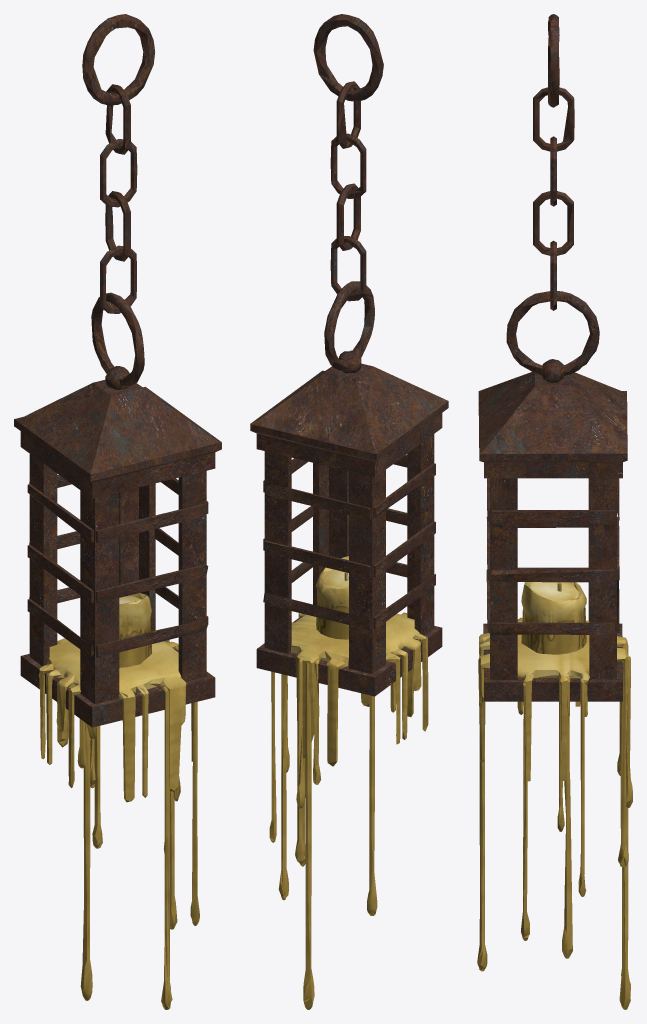
The model's file is Lantern 1.fbx.
3 renders of one model, left to right at view 1: azimuth 30°, elevation 25°; view 2: azimuth 150°, elevation 25°; view 3: azimuth 270°, elevation 25°, orthographic. The views are drawn at different scales.
Visible parts, largest first — view 1: Lantern 1; view 2: Lantern 1; view 3: Lantern 1.
Part boxes in pixels (bbox=[...]): Lantern 1: bbox=[14, 14, 221, 1009]; Lantern 1: bbox=[250, 14, 448, 1009]; Lantern 1: bbox=[477, 14, 632, 1009].
Size of the model in its own units: 20.8 by 150 by 21.36.
2 materials, 2 textured.
